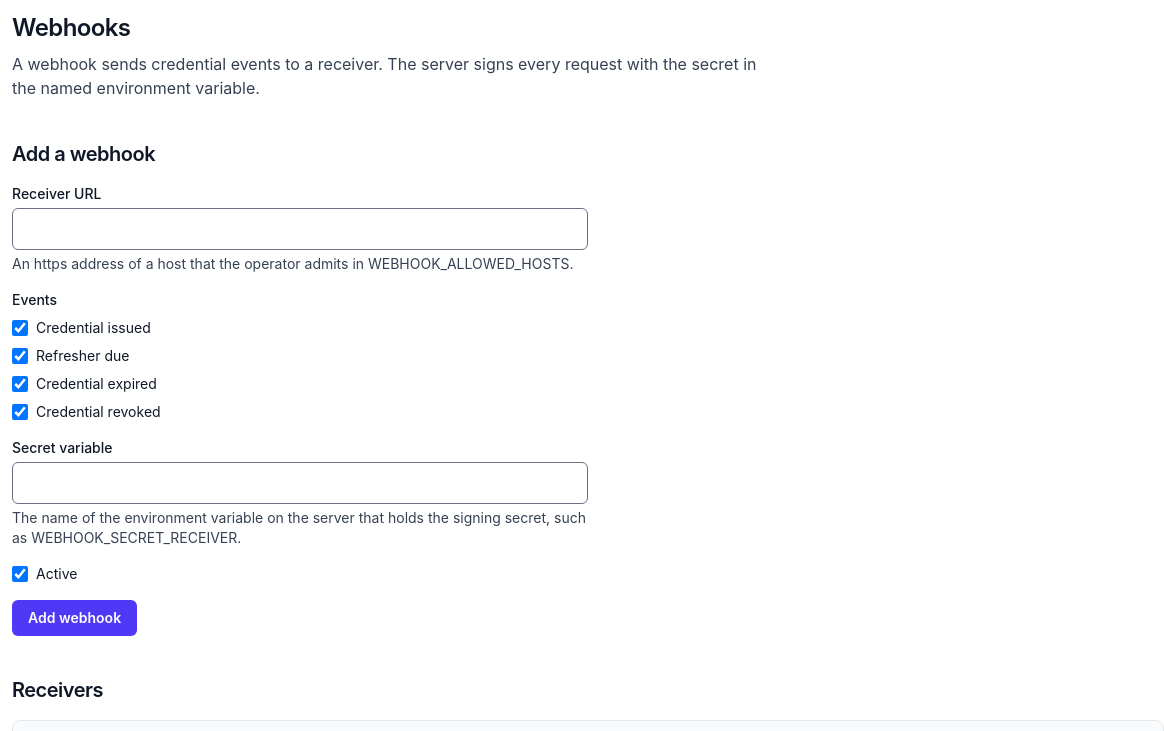
Scenario: the webhook form › refuses a webhook without an event before sending
The width and height of the screenshot is (1164, 731).
Step 1. Click the checkbox labelled "Credential issued" → (20, 328), box [12,320,28,336]
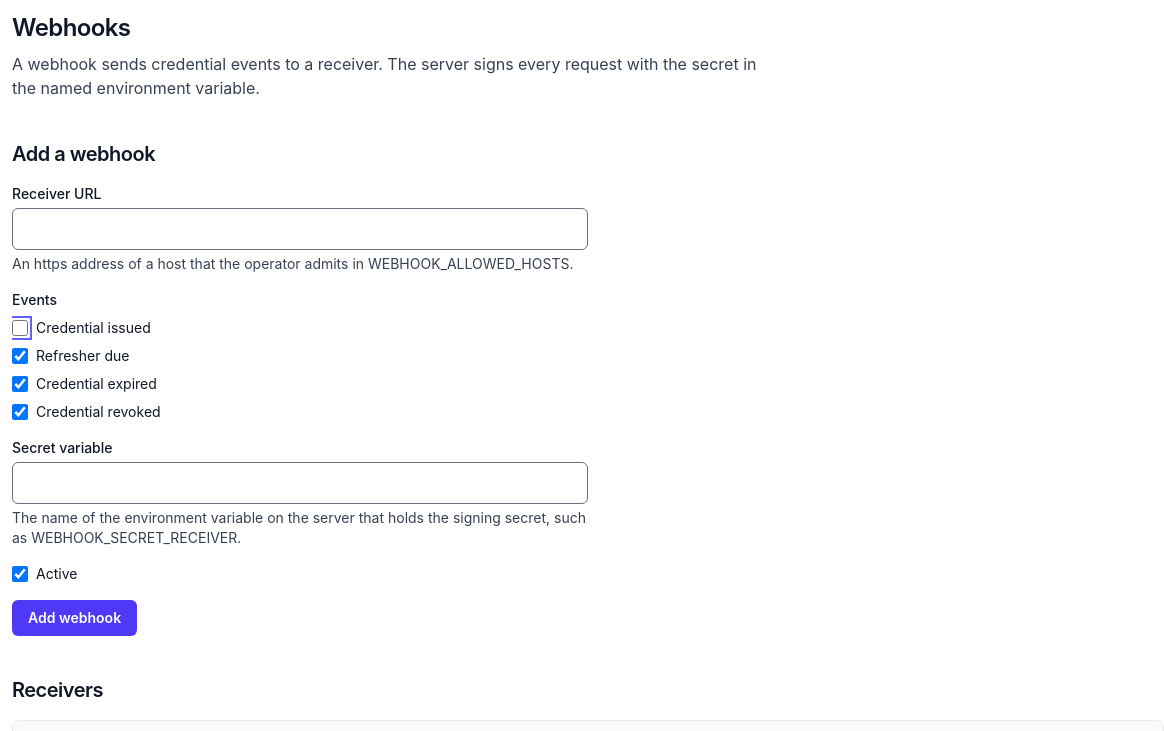
Step 2. Click the checkbox labelled "Refresher due" → (20, 356), box [12,348,28,364]
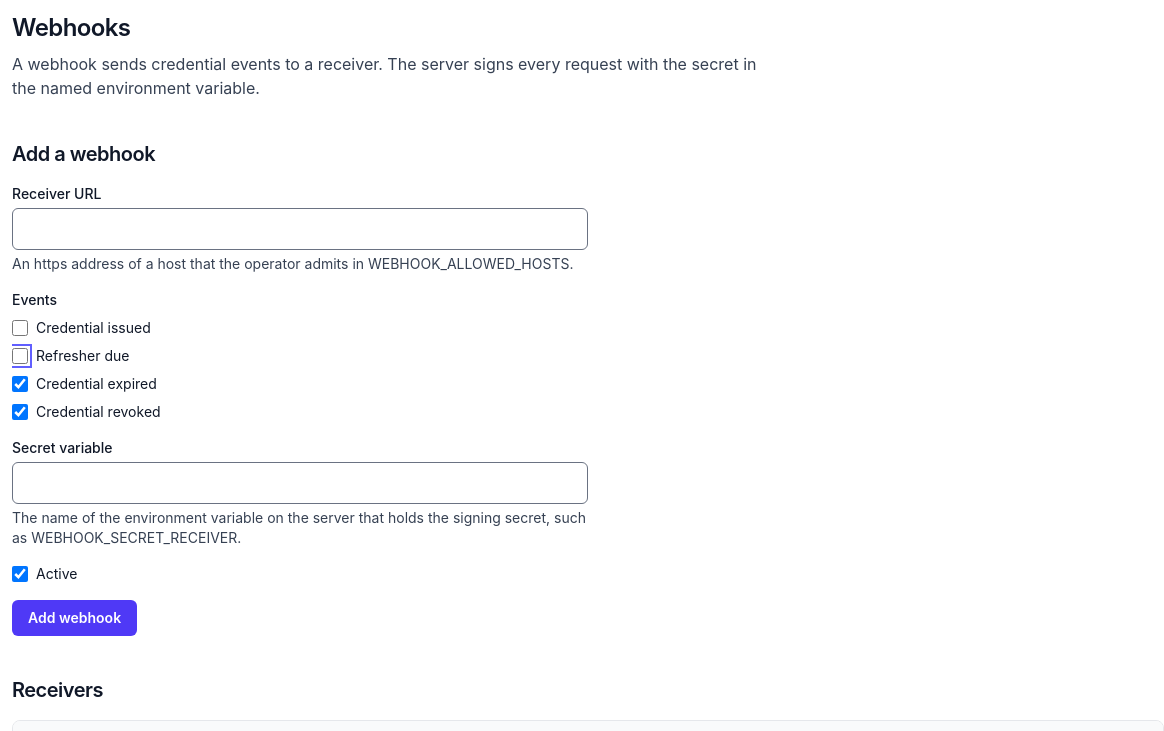
Step 3. Click the checkbox labelled "Credential expired" → (20, 384), box [12,376,28,392]
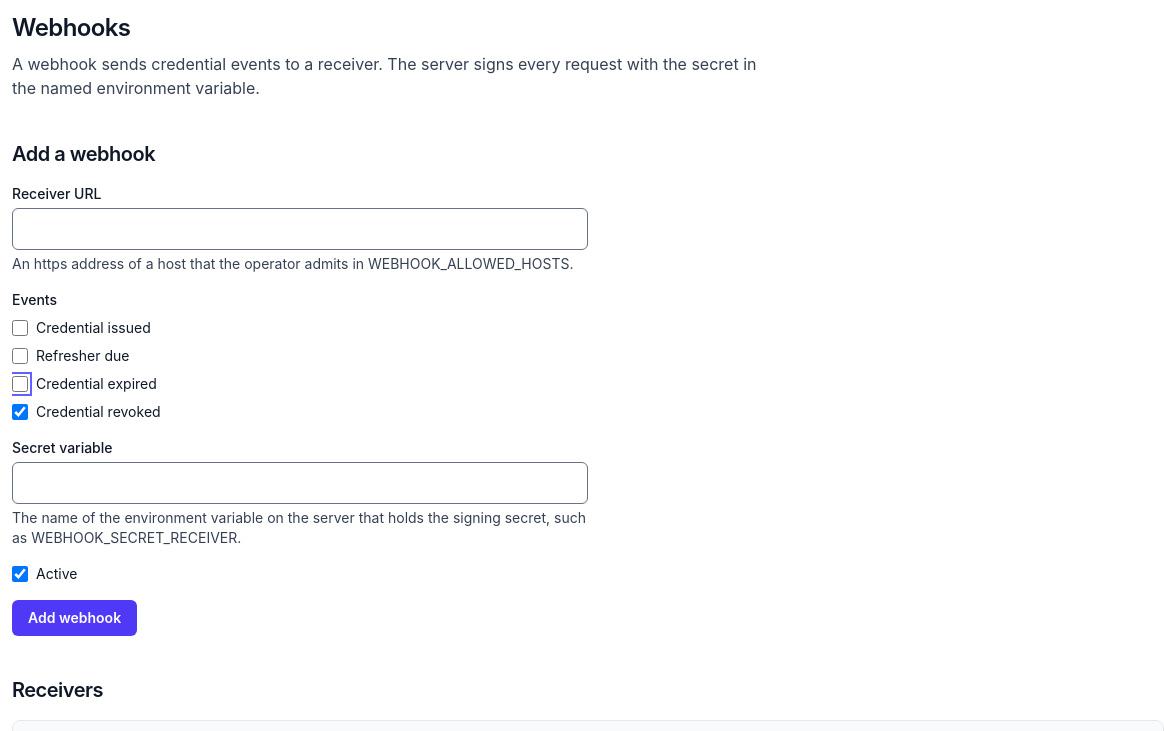
Step 4. Click the checkbox labelled "Credential revoked" → (20, 412), box [12,404,28,420]
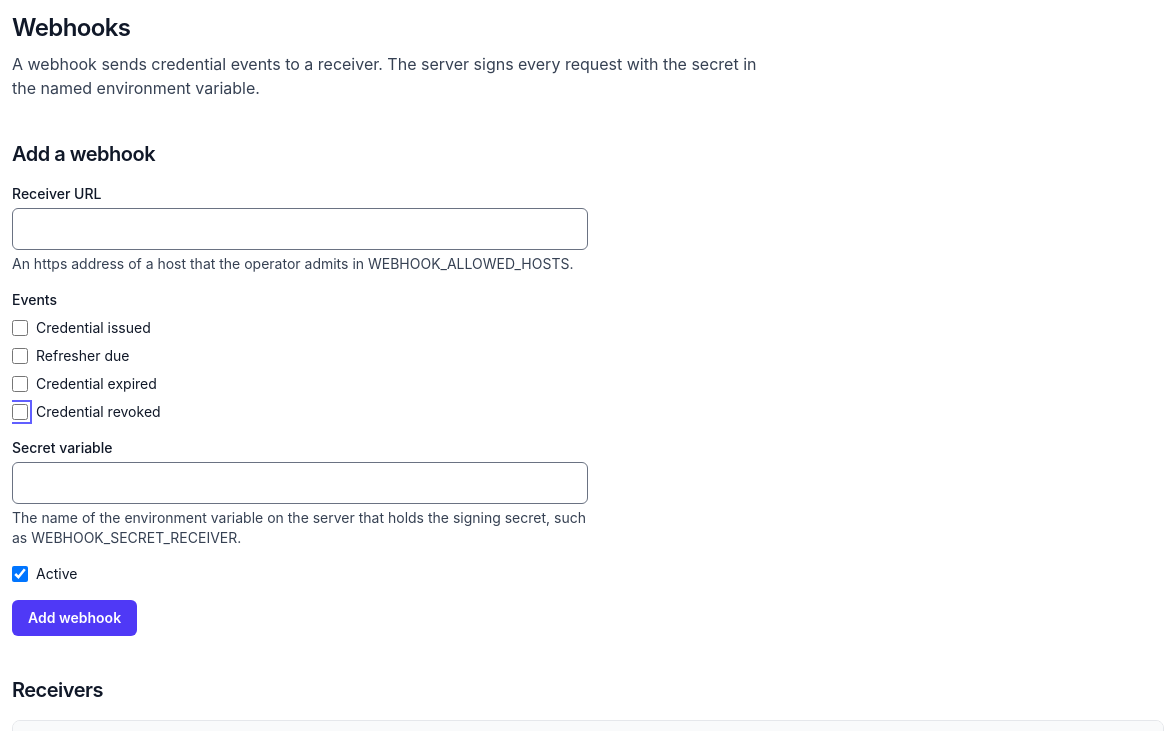
Step 5. Type "https://hooks.example.org/new" into the field labelled "Receiver URL" → (300, 229), box [12,208,588,250]
Step 6. Type "WEBHOOK_SECRET_NEW" into the field labelled "Secret variable" → (300, 483), box [12,462,588,504]
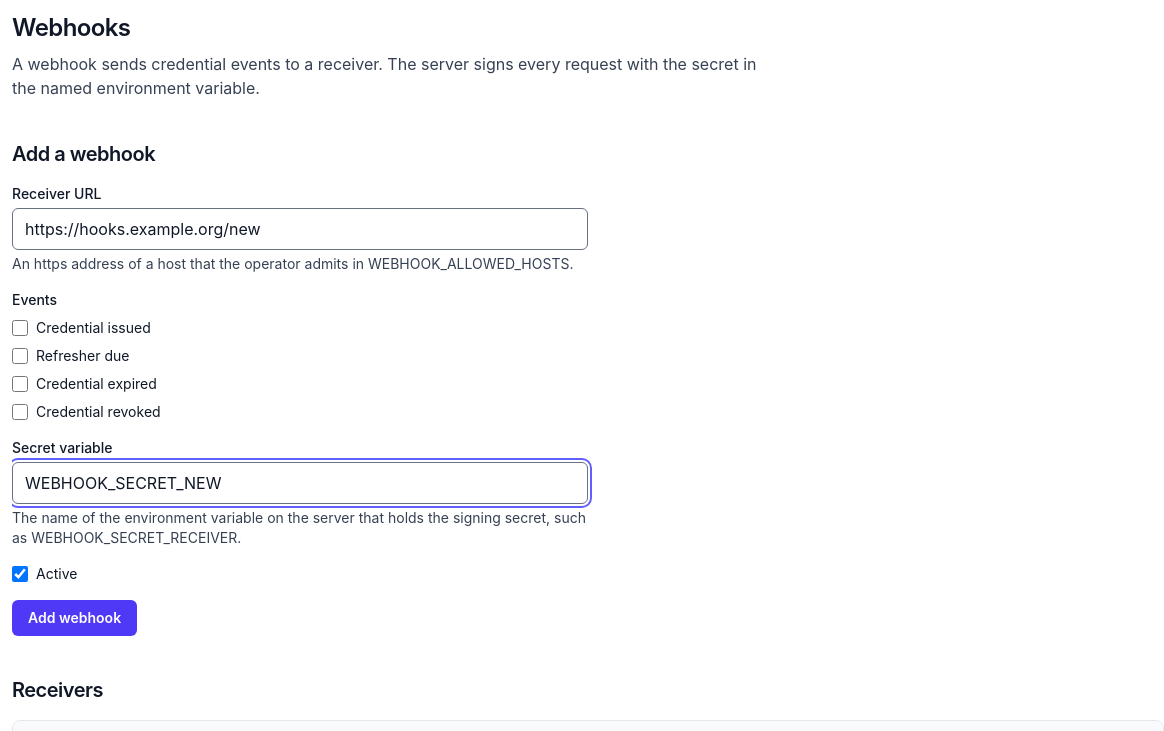
Step 7. Click the button "Add webhook" → (75, 618), box [12,600,137,636]
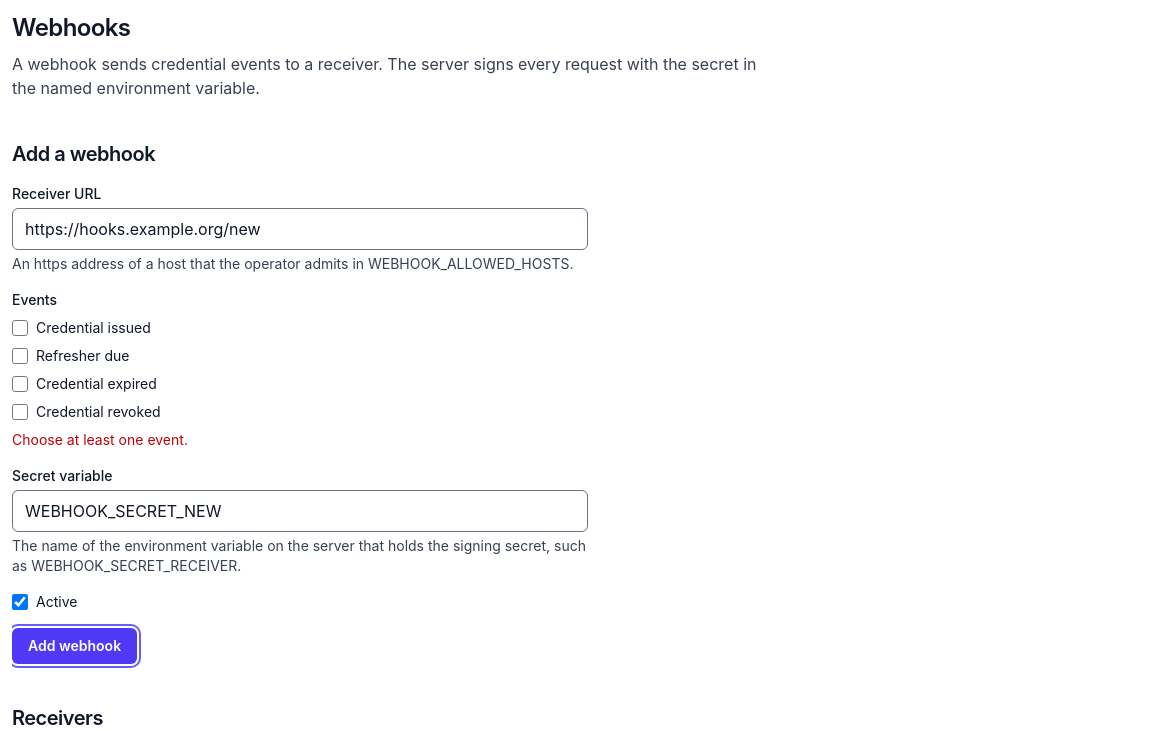
Check: the text "Choose at least one event." is shown, box [12,431,188,448]
